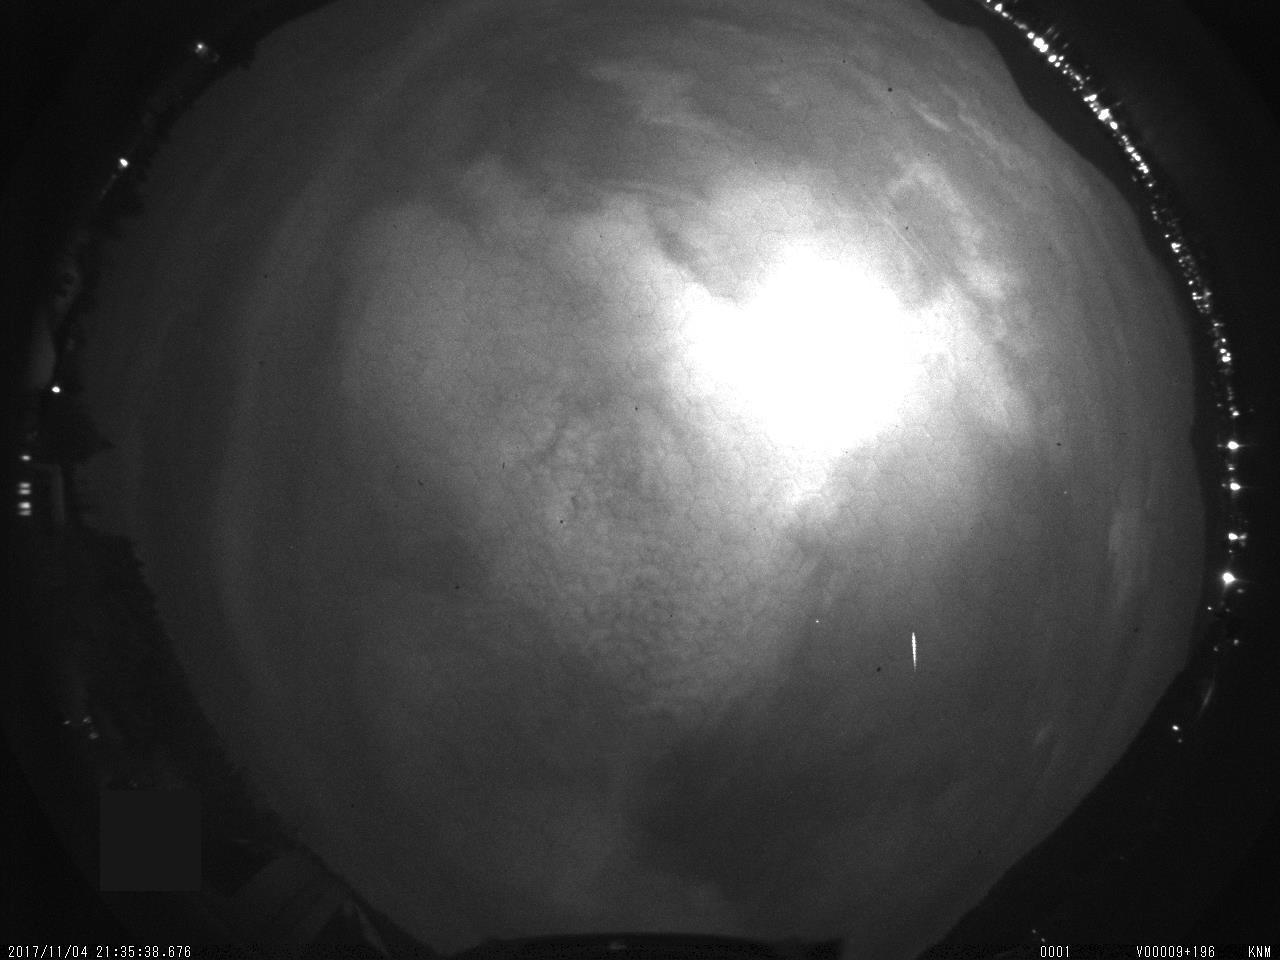Meteor: (903, 624, 924, 681)
